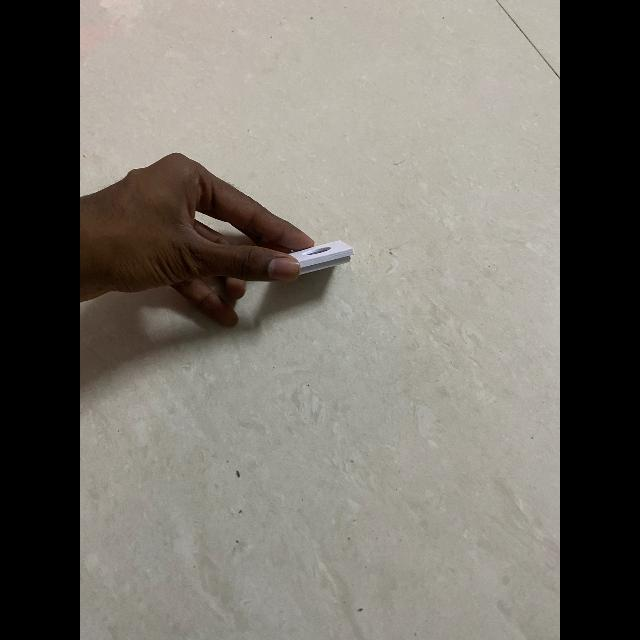RASPBERY PI CAM ENCLOSURE: (289, 240, 355, 276)
